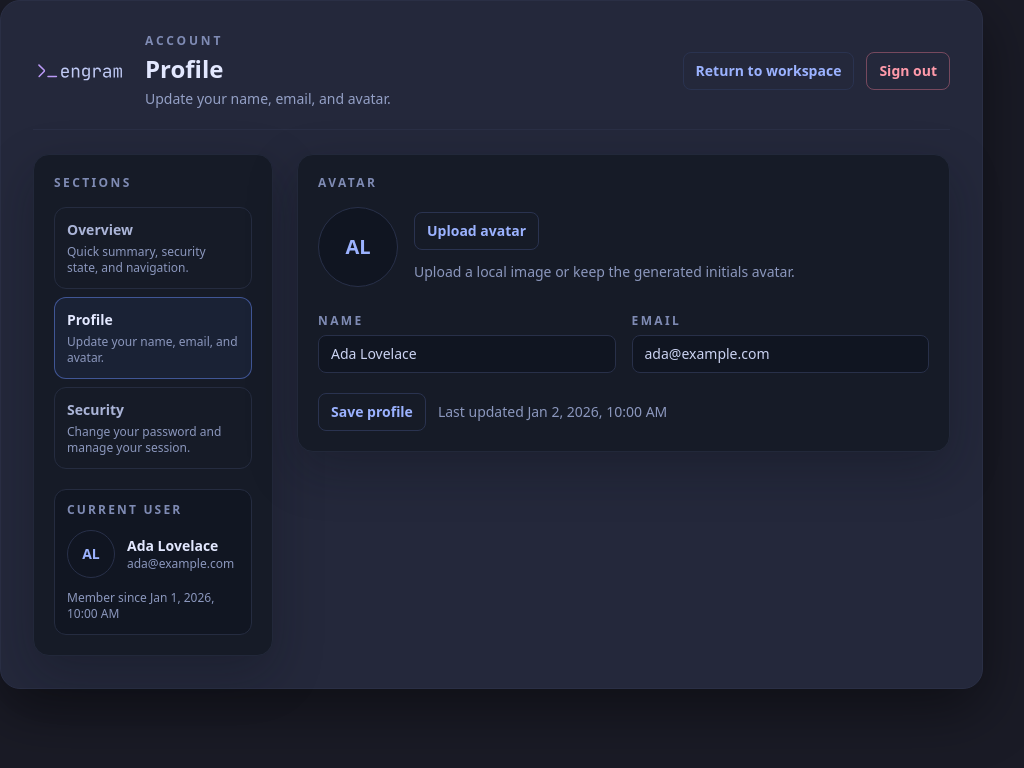
Scenario: Account view › shows a local validation error when profile details are unchanged
Click the button "Save profile" at (372, 412), box top-left (318, 393), bottom-right (426, 431)
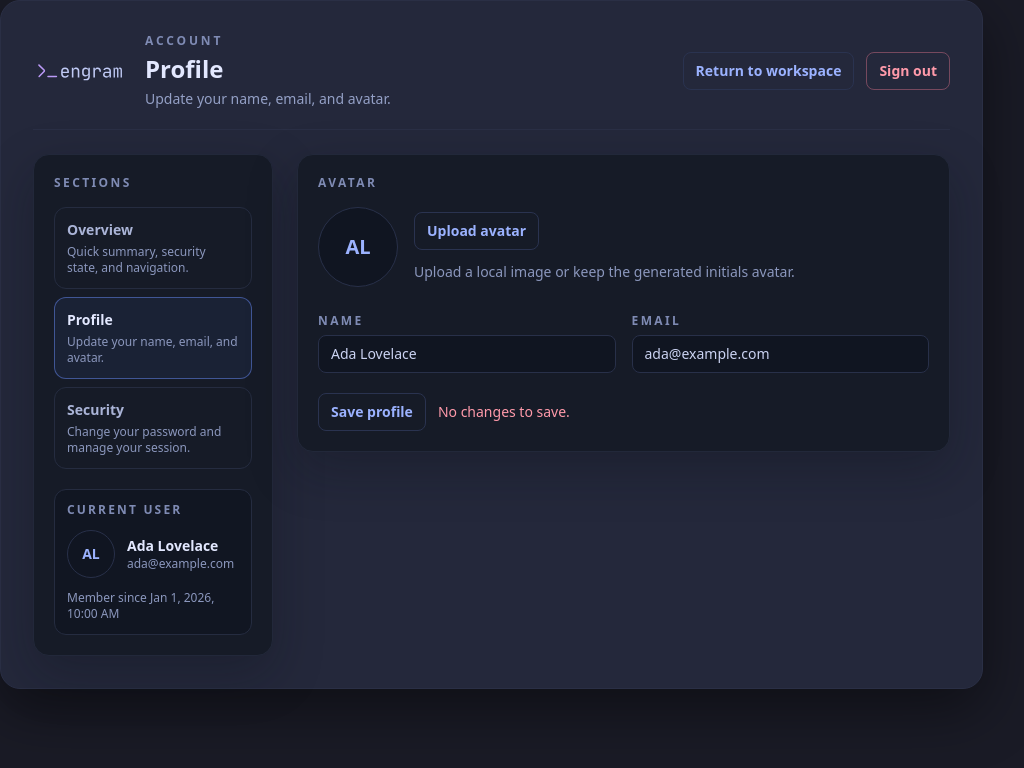
Expected: the text "No changes to save." is shown, top-left (438, 402), bottom-right (570, 422)
